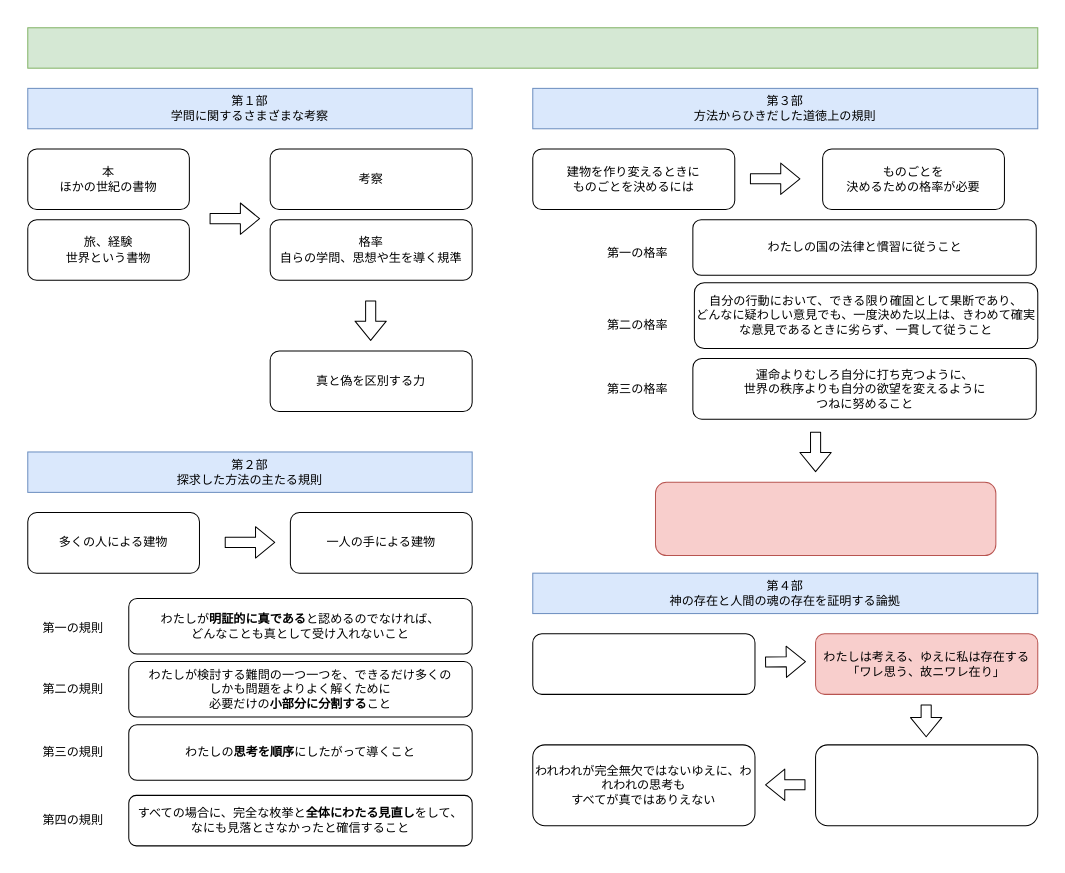
The diagram is 1065 pixels wide and 873 high, and some of its shapes have lost their labels. Here are the shapes that lost their labels. From the top down, the box of each, then its label:
(27, 27, 1038, 68): 方法序説 建築と方法
(654, 481, 996, 556): この世で人びとが 携わっているさまざまな仕事を ひととおり見直して、 最善のものを選び出す
(532, 633, 755, 694): すべてを偽と考えている間も、 そう考えているわたしは必然的に 何ものかでなければならない
(815, 744, 1038, 826): 神があり、存在すること、 神が完全な存在者であること、 われわれのうちにあるすべては 神に由来すること
